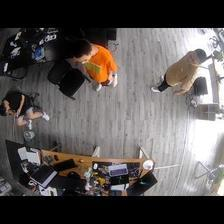normal: (148, 46, 204, 97), (74, 39, 118, 91)
